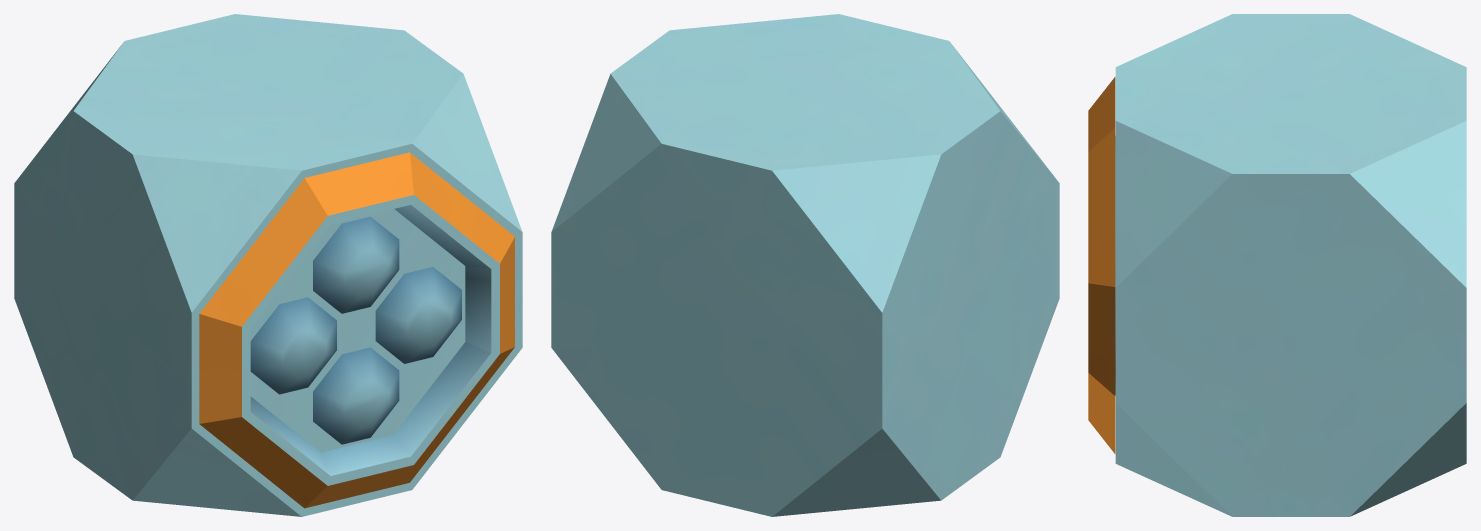
The model's file is Shield 3.fbx.
3 renders of one model, left to right at view 1: azimuth 30°, elevation 25°; view 2: azimuth 150°, elevation 25°; view 3: azimuth 270°, elevation 25°, orthographic.
Visible parts, largest first — view 1: Shield 1x1.001; view 2: Shield 1x1.001; view 3: Shield 1x1.001.
Boxes of the visible parts, x1,y1,x2,y2 form: Shield 1x1.001: [14, 14, 522, 516]; Shield 1x1.001: [551, 14, 1059, 516]; Shield 1x1.001: [1088, 14, 1466, 516].
Size of the model in its own units: 100 by 100 by 100.
